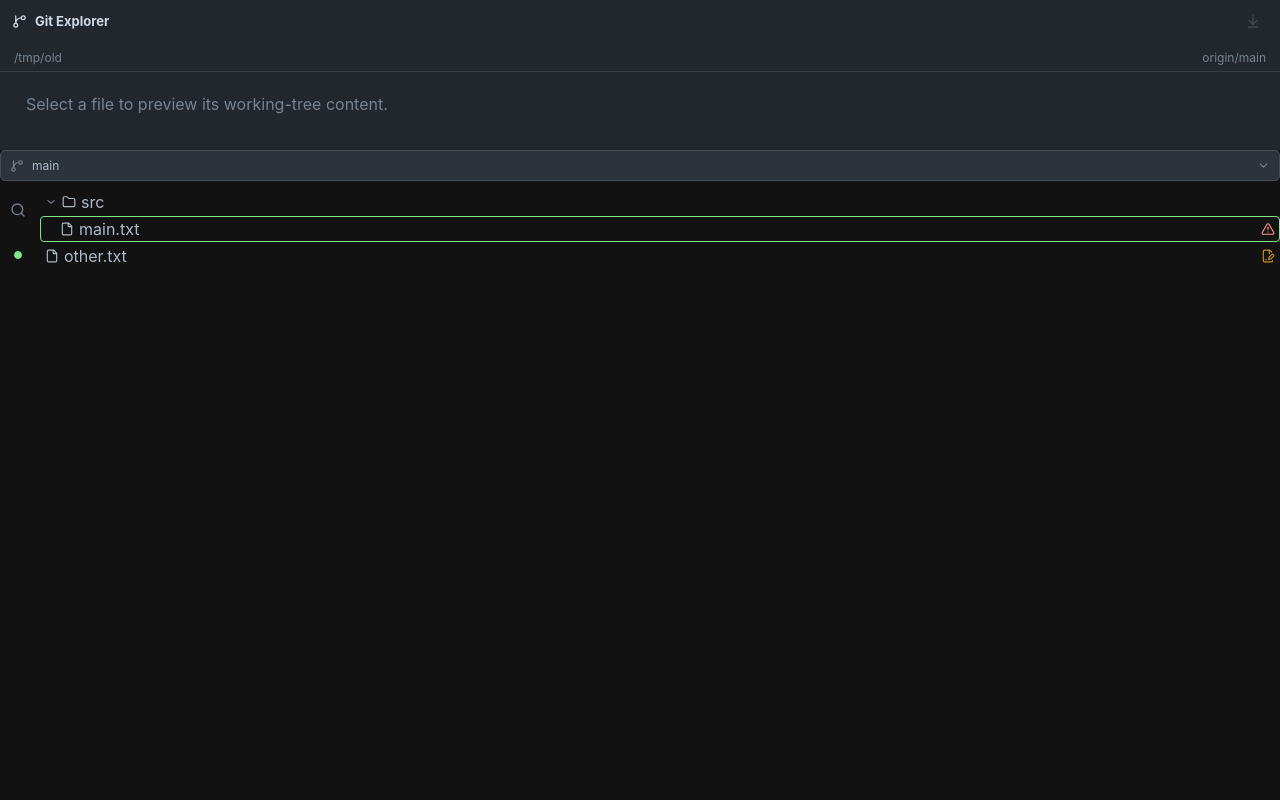
Test: keeps file previews and branch state scoped to the project and refreshes after an action error
The image size is (1280, 800).
Earlier steps of the test are not shown.
Later steps or results of the test are not shown.
Click the list item "main.txt".
click(109, 229)  # box x1=40 y1=216 x2=1279 y2=242
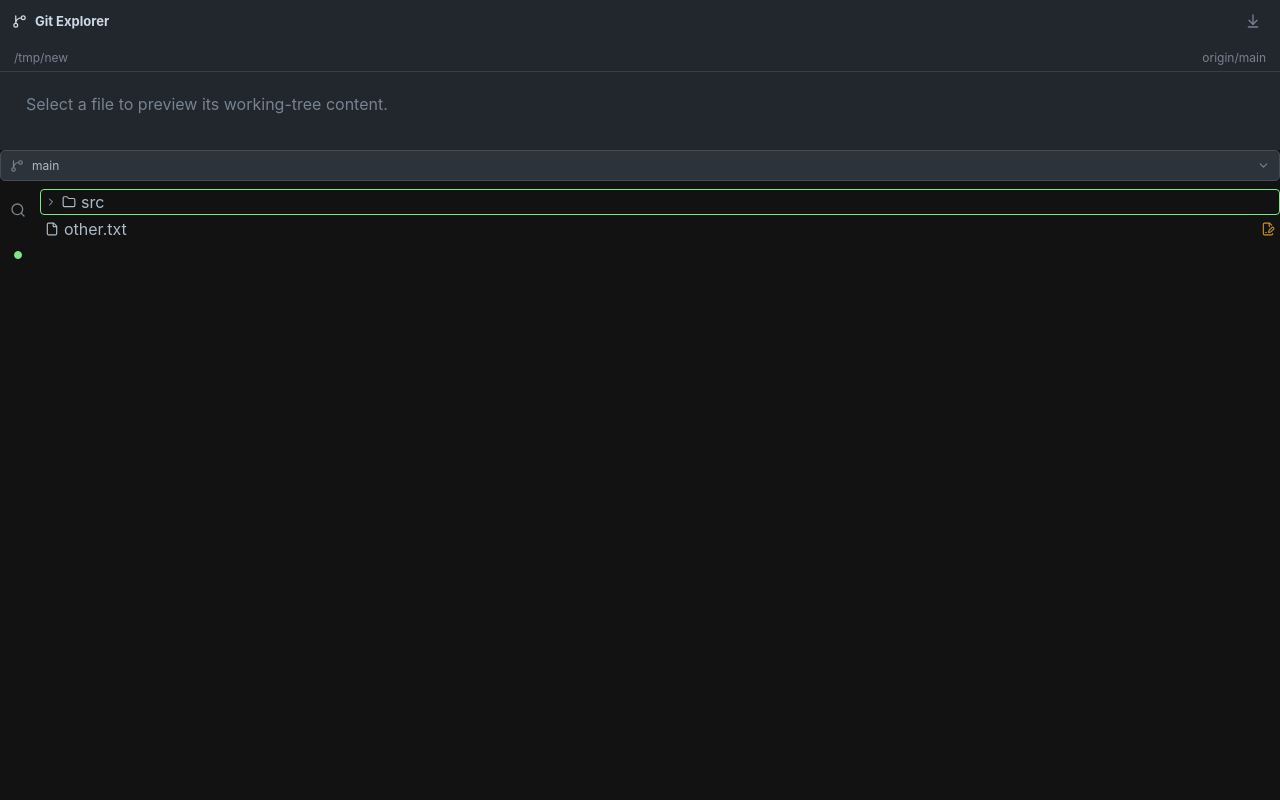
Expected: the picture named "Local changes" is shown, x1=1261 y1=222 x2=1275 y2=236
Press ArrowRight in the list item "src", box x1=40 y1=189 x2=1279 y2=215
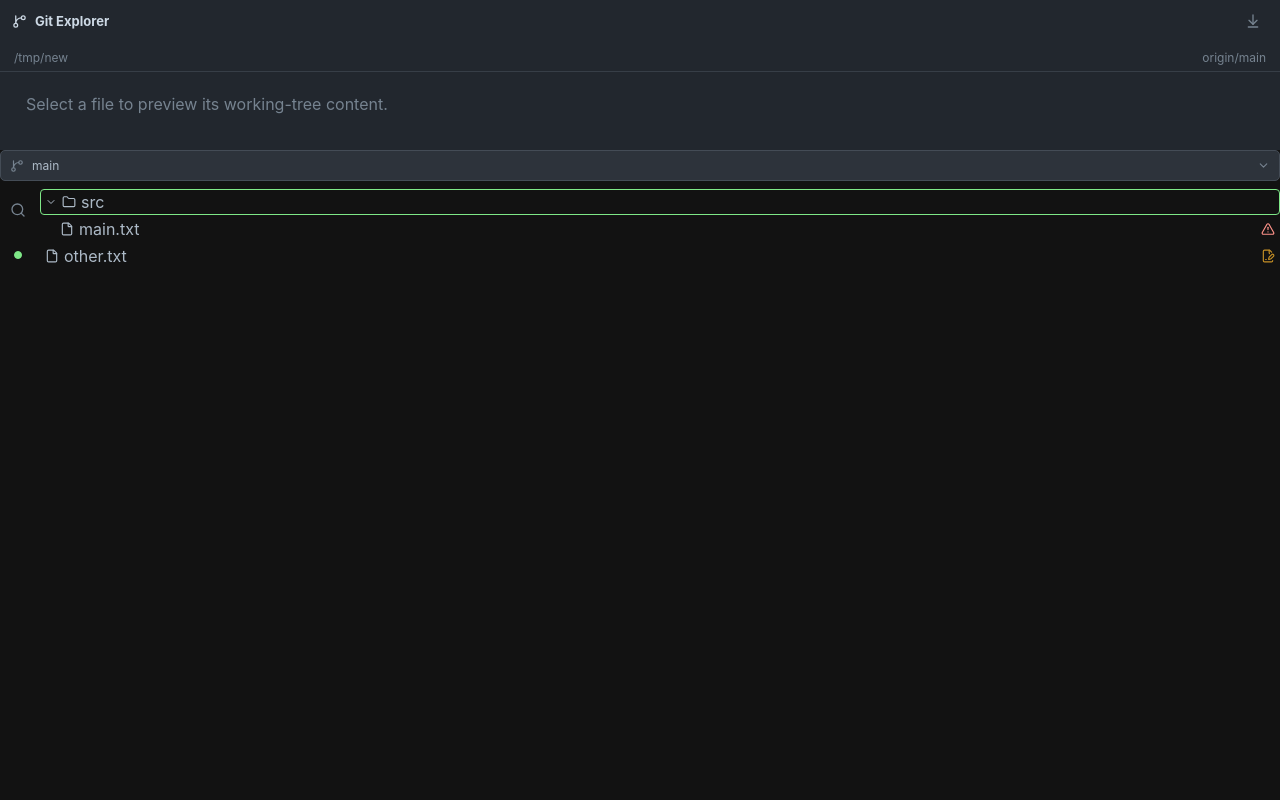
Press ArrowRight in the list item "src", box x1=40 y1=189 x2=1279 y2=215
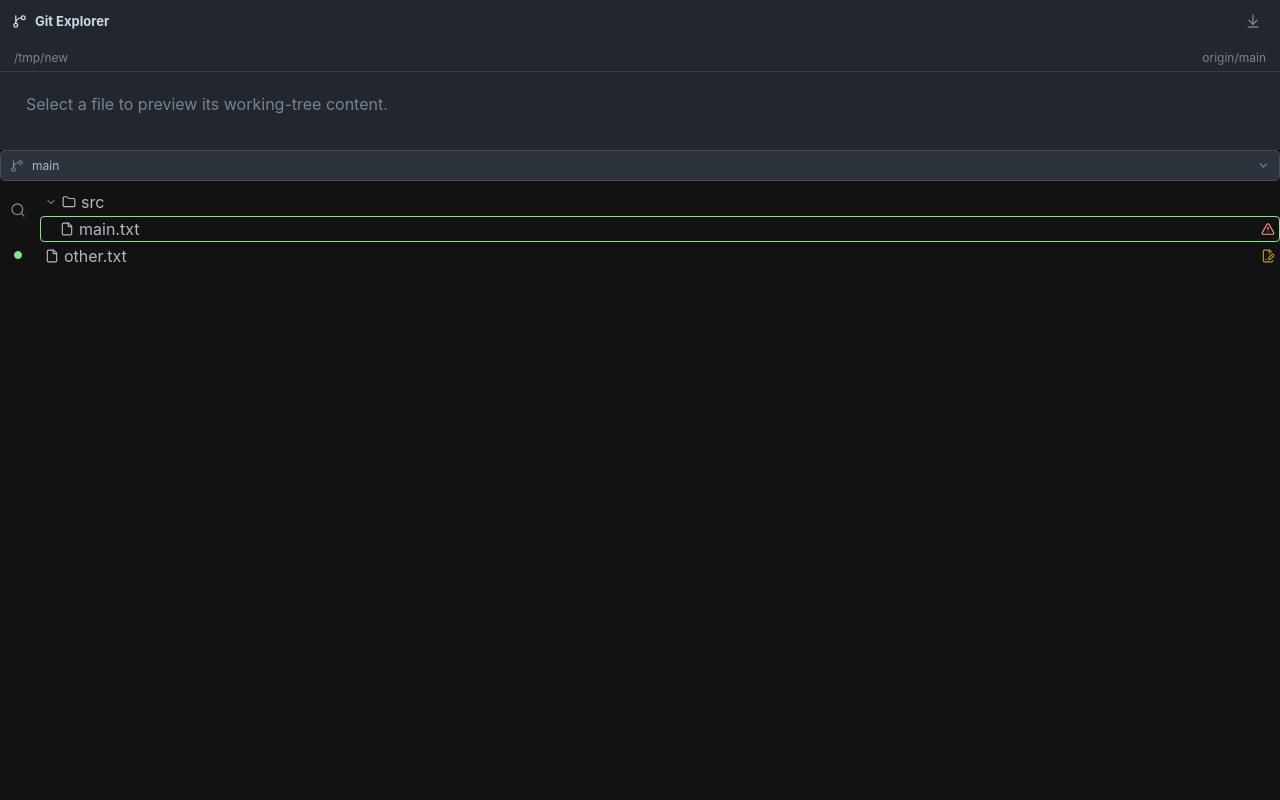
Expected: the list item "main.txt" is shown
Click the list item "main.txt".
click(109, 229)  # box x1=40 y1=216 x2=1279 y2=242
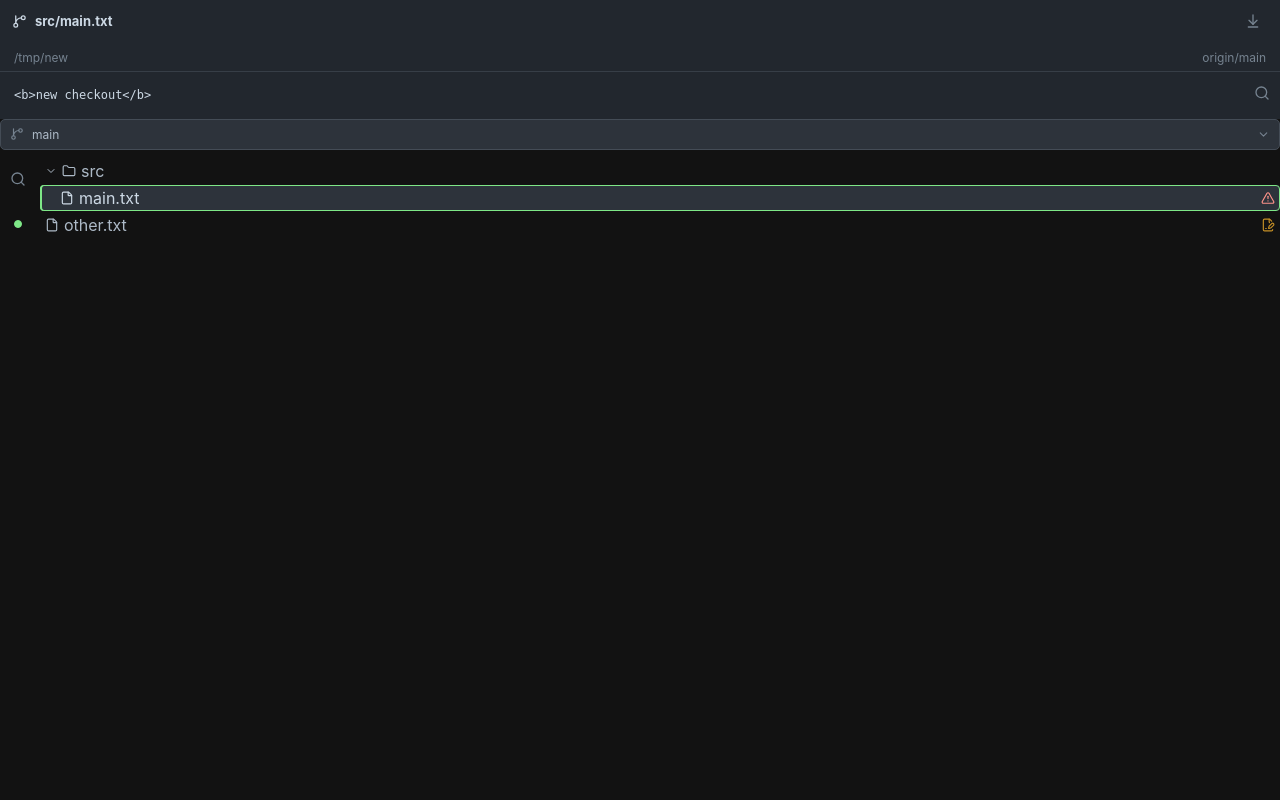
Expected: the picture named "Local changes" is shown, x1=1261 y1=218 x2=1275 y2=232
Expected: the picture named "Conflict" is shown, x1=1261 y1=191 x2=1275 y2=205
Click the button named "Pull".
click(1253, 21)  # box x1=1238 y1=6 x2=1268 y2=36
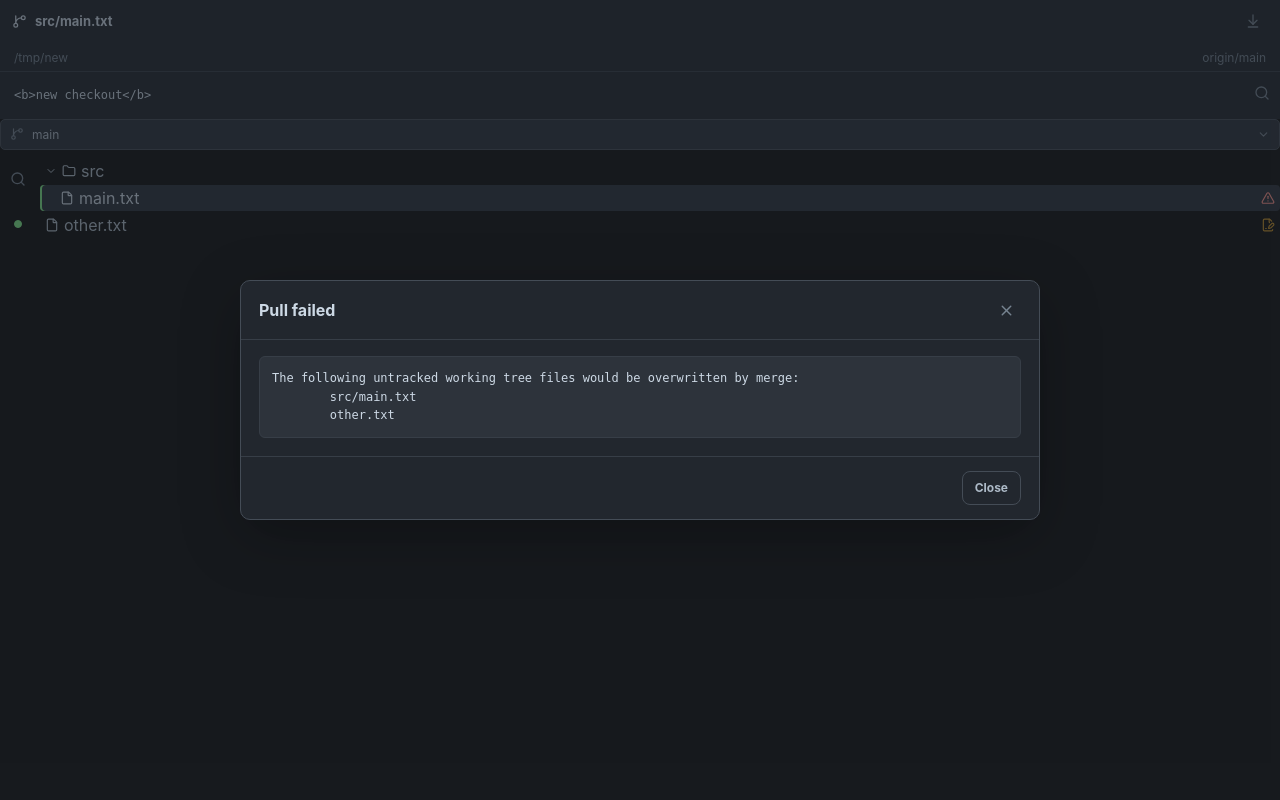
Expected: the heading "Pull failed" is shown, x1=259 y1=300 x2=335 y2=320
Expected: the button named "Close Git error" is shown, x1=991 y1=295 x2=1021 y2=325
Expected: the button "Close" is shown
Click the button "Close".
click(991, 488)  # box x1=962 y1=471 x2=1021 y2=505
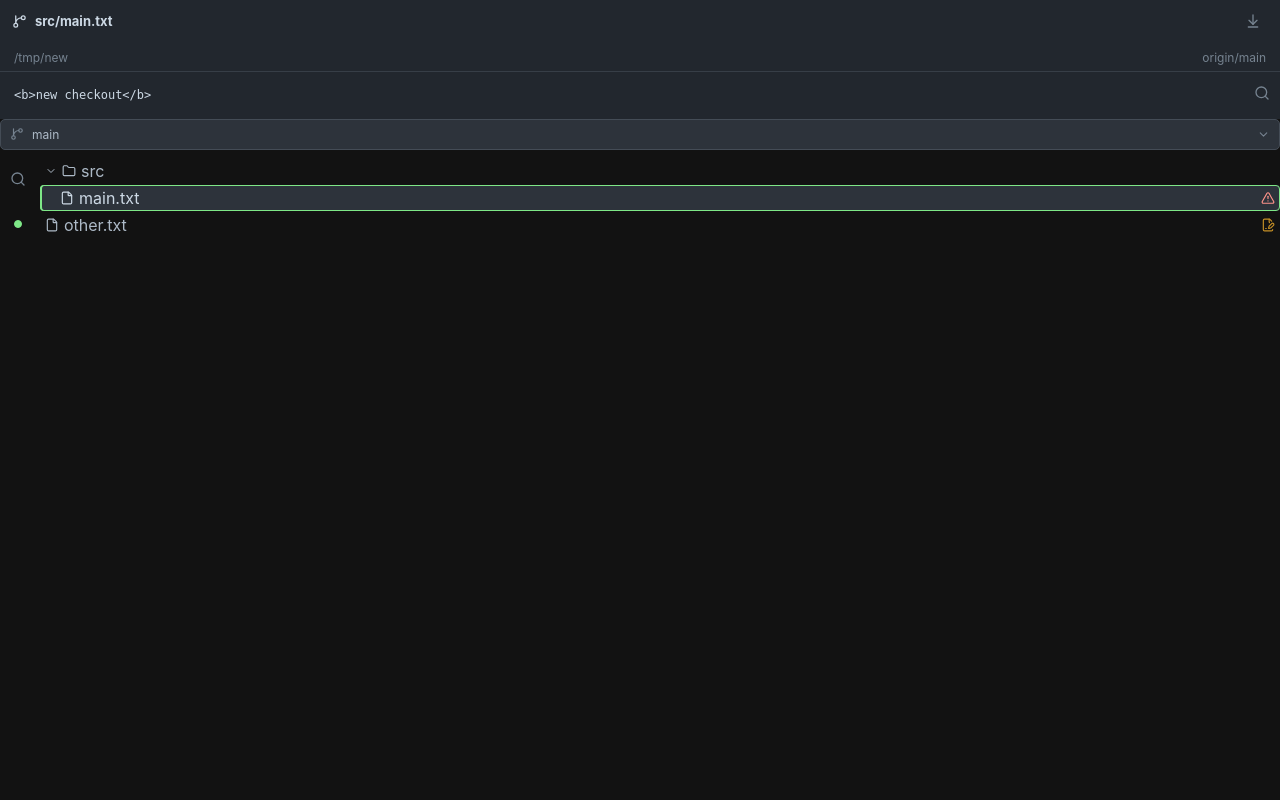
Expected: the list item "main.txt" is shown, x1=40 y1=185 x2=1279 y2=211
Expected: the dialog is gone
